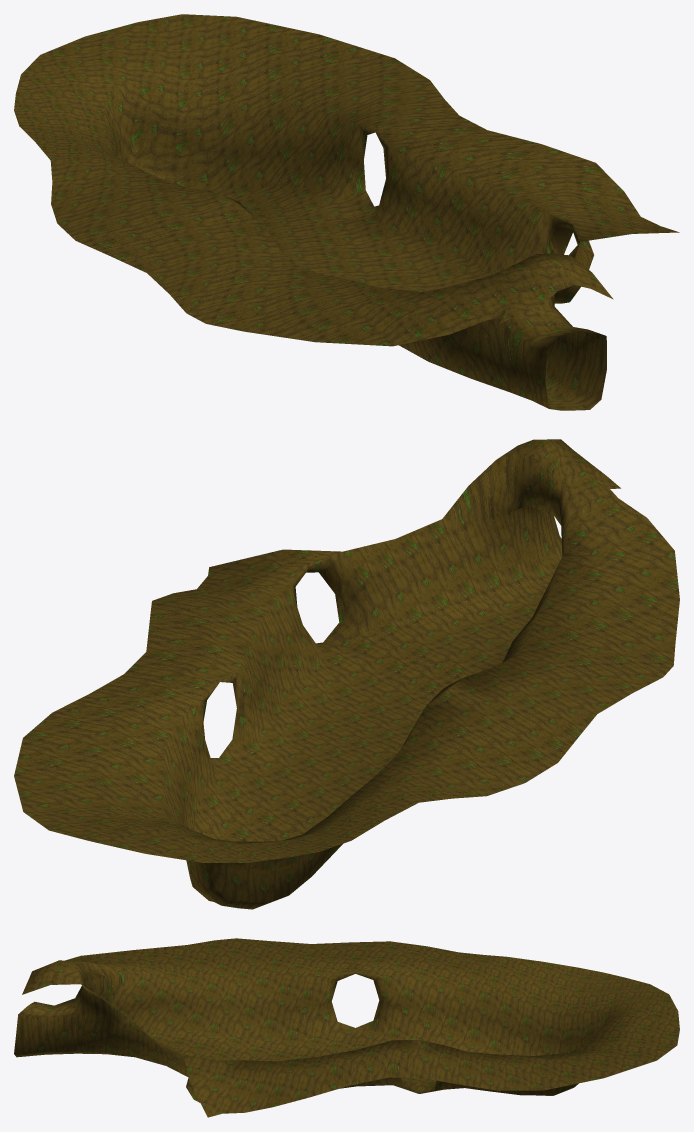
File: MIRKWOOD_AREA4-5.fbx
3 views of the same model, one above another, from view 1: azimuth 30°, elevation 25°; view 2: azimuth 150°, elevation 25°; view 3: azimuth 270°, elevation 25° (orthographic). The views are drawn at different scales.
Parts seen in each view (by area): view 1: MIRKWOOD_AREA4-5; view 2: MIRKWOOD_AREA4-5; view 3: MIRKWOOD_AREA4-5.
Part boxes in pixels (bbox=[...]): MIRKWOOD_AREA4-5: bbox=[14, 14, 679, 410]; MIRKWOOD_AREA4-5: bbox=[14, 439, 679, 909]; MIRKWOOD_AREA4-5: bbox=[14, 938, 679, 1117].
Size of the model in its own units: 471560 by 184532 by 799550.
Materials: 1 (1 with a texture image).
